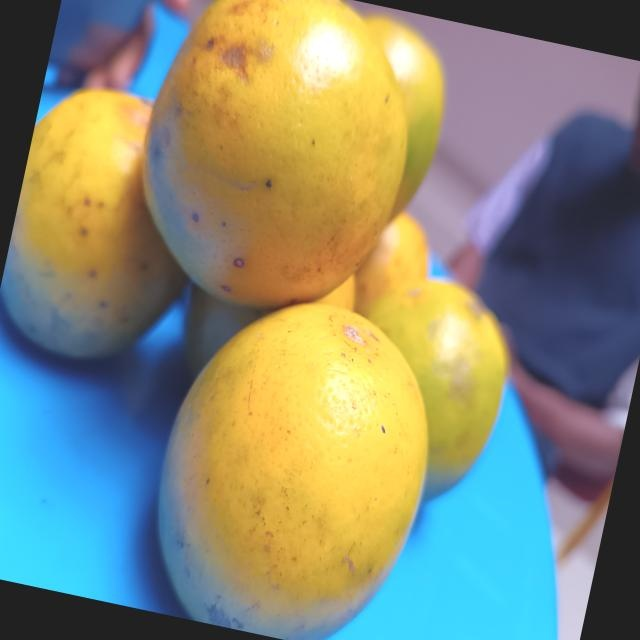agrume: (124, 274, 455, 640), (110, 0, 437, 329), (0, 78, 211, 383), (332, 265, 523, 503)
